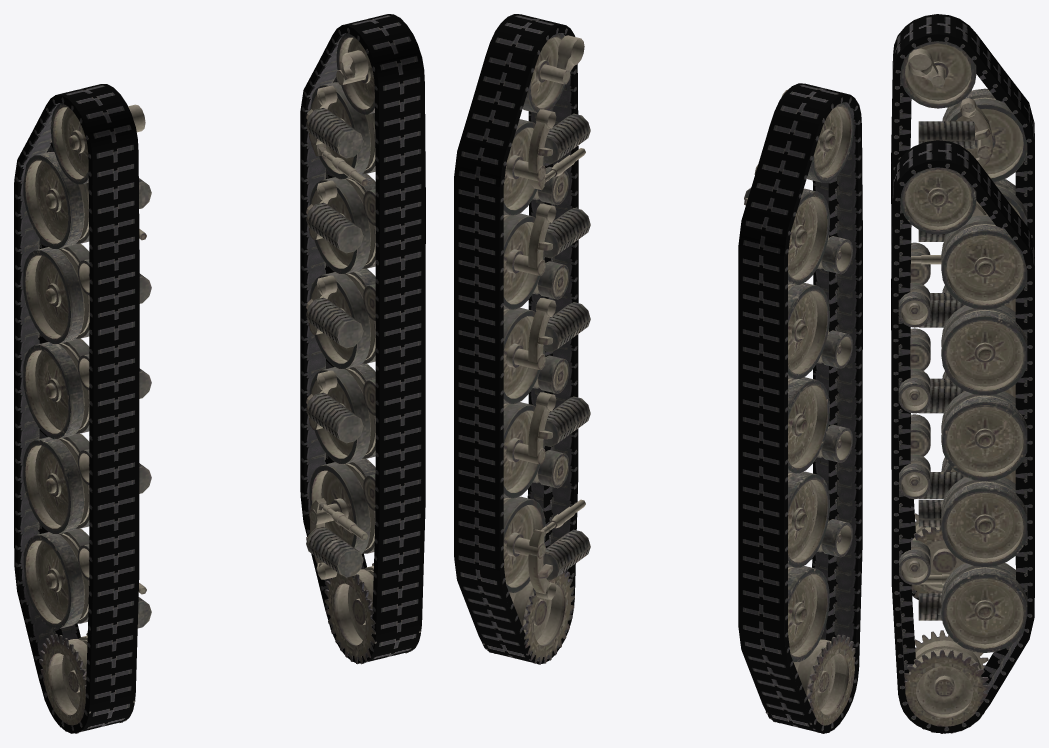
The model's file is Chassis.glb.
3 renders of one model, left to right at view 1: azimuth 30°, elevation 25°; view 2: azimuth 150°, elevation 25°; view 3: azimuth 270°, elevation 25°, orthographic. The views are drawn at different scales.
Parts seen in each view (by area): view 1: set_1_group_0, set_0_group_0, set_2_group_0, set_3_group_0; view 2: set_1_group_0, set_0_group_0, set_3_group_0, set_2_group_0; view 3: set_3_group_0, set_0_group_0, set_2_group_0, set_1_group_0.
Part boxes in pixels (box(x1,y1,x2,y2)): set_1_group_0: box(14, 84, 139, 733); set_0_group_0: box(300, 14, 425, 663); set_2_group_0: box(23, 103, 151, 733); set_3_group_0: box(306, 33, 420, 664); set_1_group_0: box(738, 83, 862, 733); set_0_group_0: box(454, 14, 578, 664); set_3_group_0: box(482, 33, 590, 664); set_2_group_0: box(744, 89, 855, 733); set_3_group_0: box(898, 167, 1027, 733); set_0_group_0: box(891, 140, 1034, 733); set_2_group_0: box(900, 41, 1027, 598); set_1_group_0: box(891, 14, 1034, 599).
Bounding box in the file's own units: 2.65 × 4.85 × 1.1.
4 materials, 4 textured.
